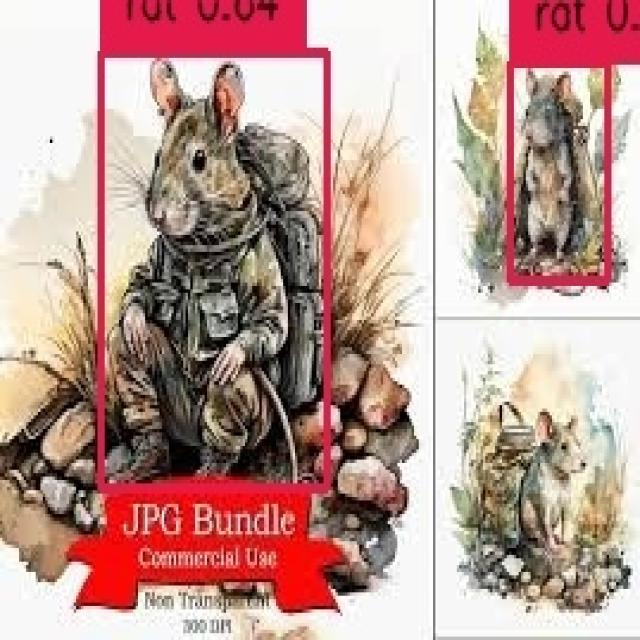rat: (98, 48, 324, 483), (507, 58, 604, 276)
